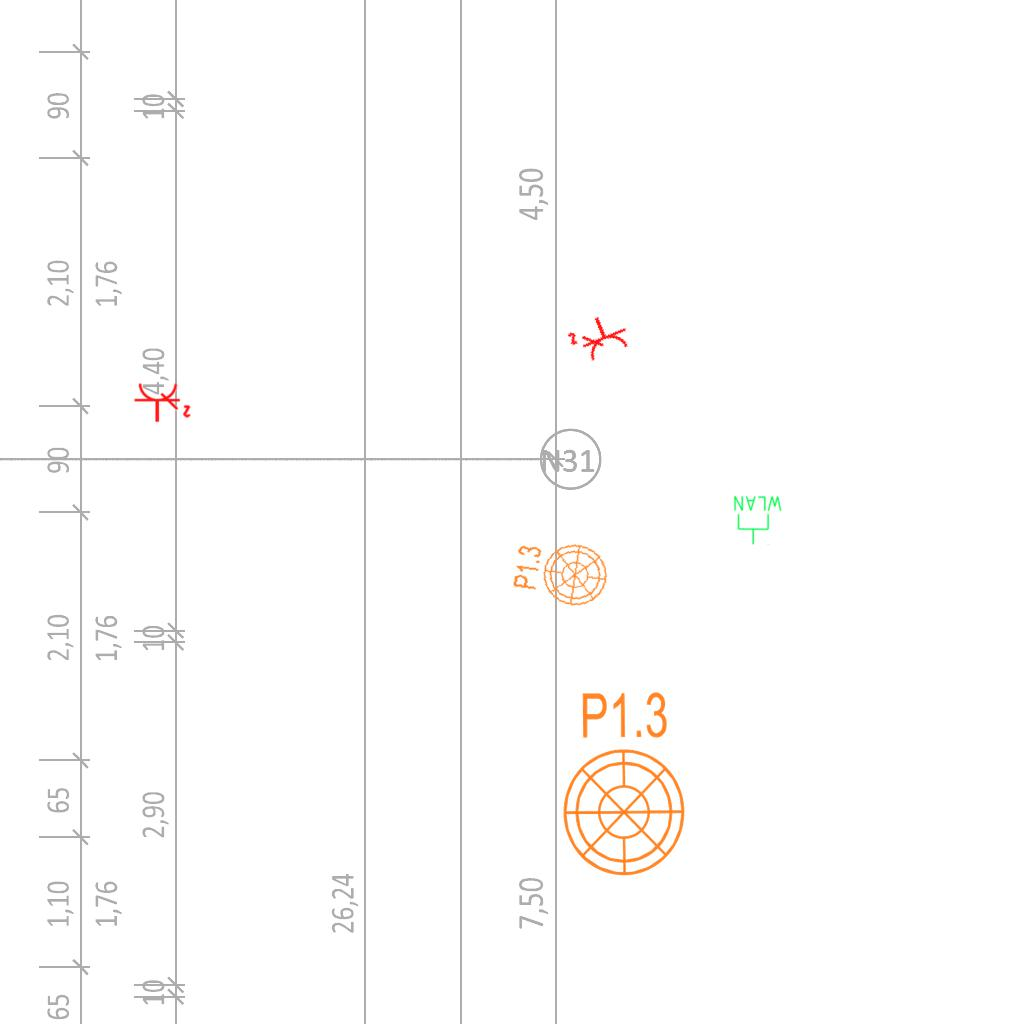Aufbaurundleuchte_LED_Treppenhaus: (560, 674, 699, 879), (502, 527, 614, 612)
Schukosteckdose_mehrfach: (562, 305, 636, 369), (132, 381, 192, 425)
WLAN: (732, 494, 784, 546)
